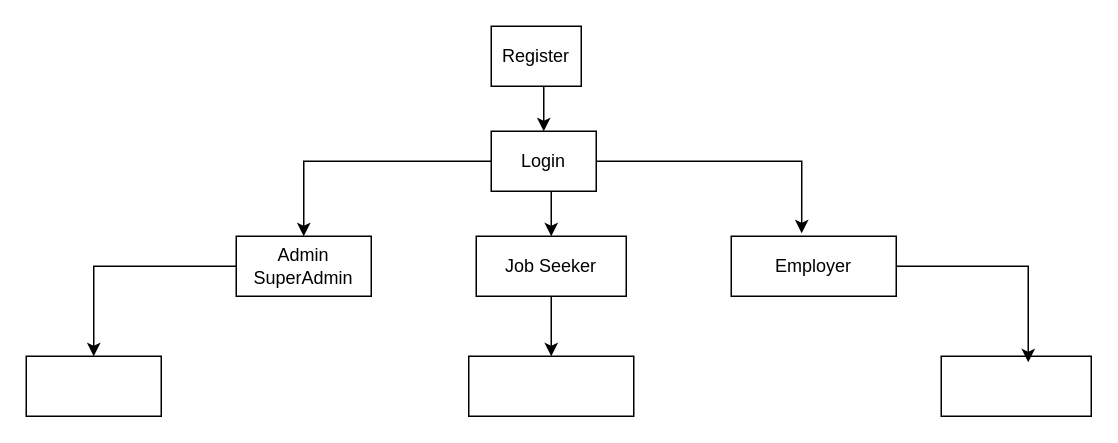
This 1118x443 diagram has some shape labels left out. The box of each missing label's shape, as (x1, y1, x2, y2) in pixels:
Admin Dashboard: (25, 355, 161, 416)
Employer Dashboard: (940, 355, 1091, 416)
Job Seeker Dashboard: (467, 355, 634, 416)
